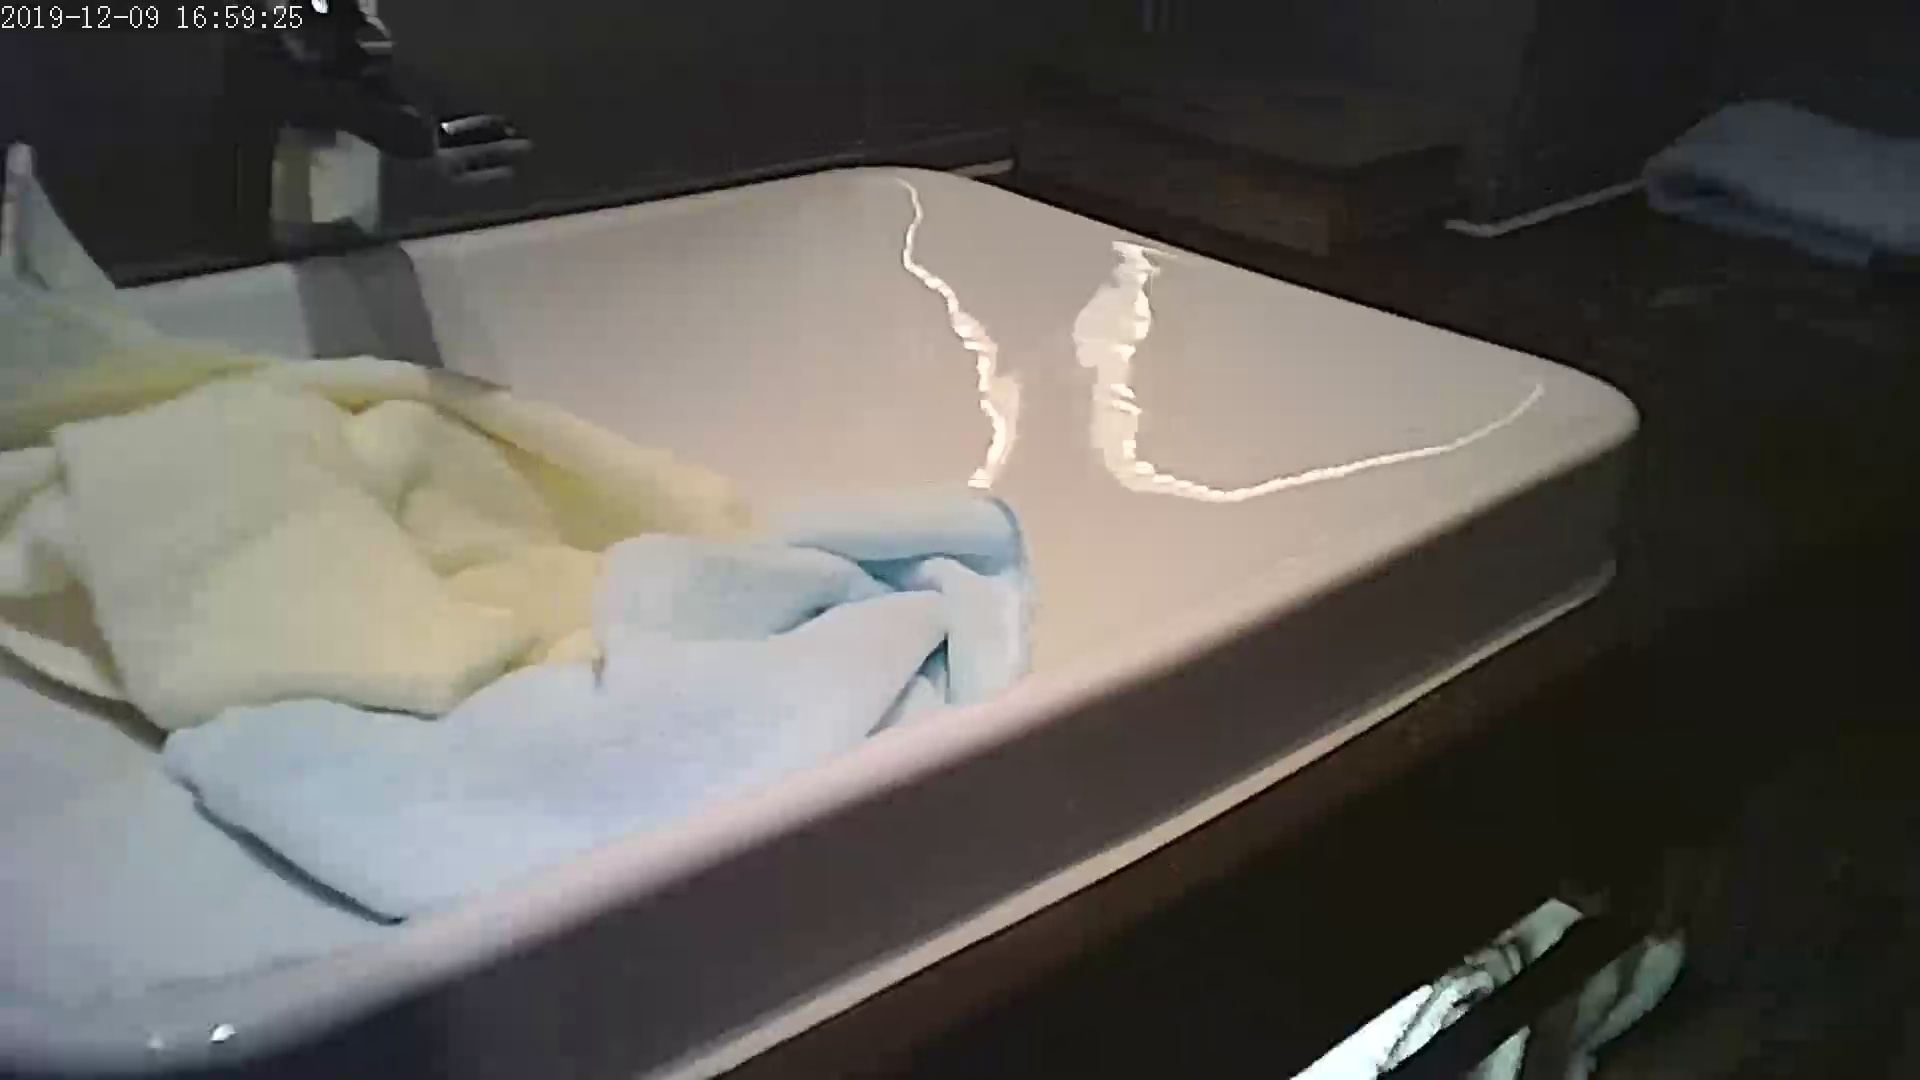bluecloth: (425, 527, 1015, 866)
sink: (16, 12, 1654, 1055)
yellowcloth: (55, 355, 545, 688)
